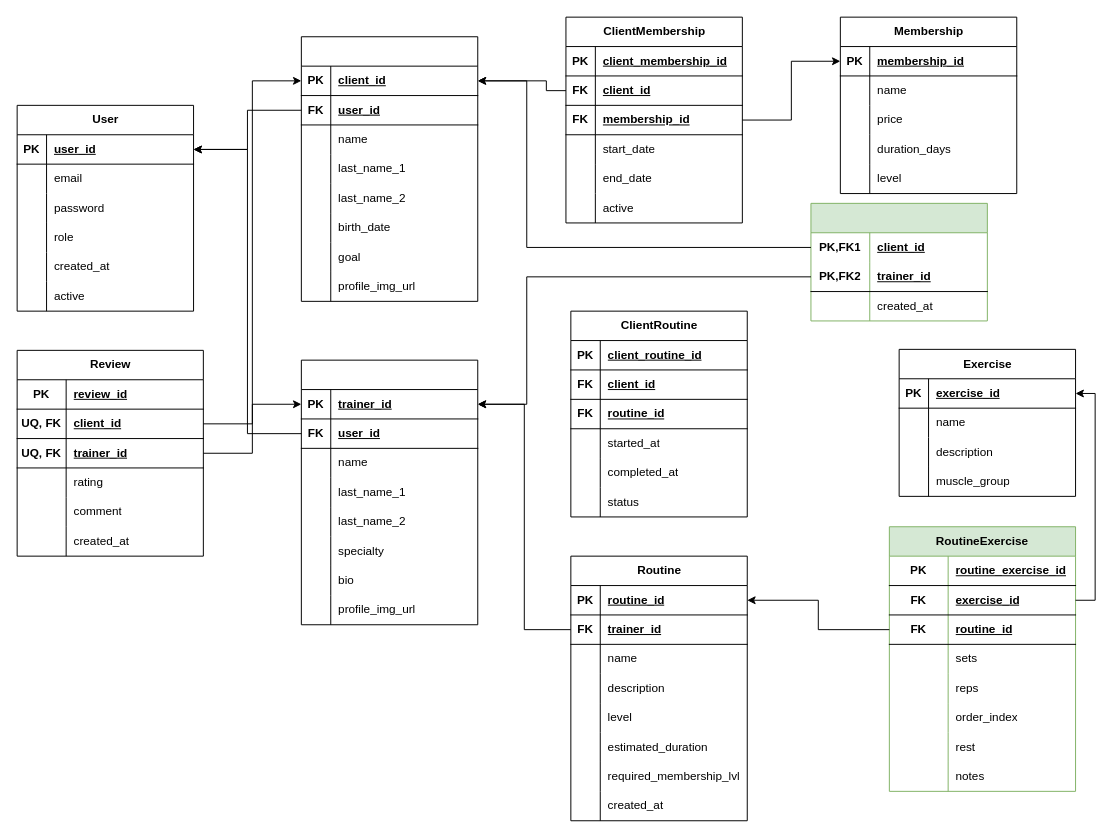
Image size: 1120x838. Some labels were removed from this diagram. Each missing label, with the box of its shape:
ClientProfile: (300, 36, 478, 301)
Follow: (810, 202, 987, 321)
TrainerProfile: (300, 359, 478, 625)
